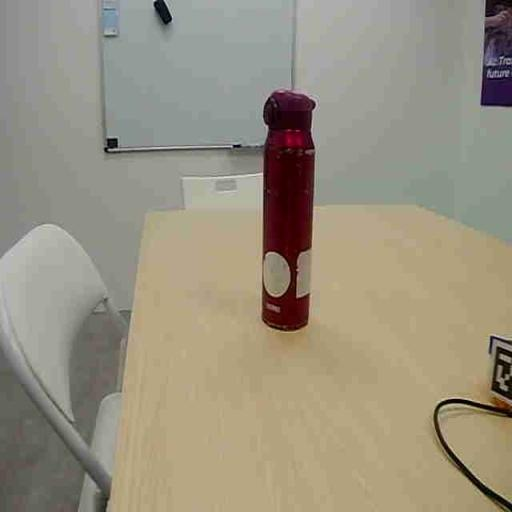bottle: (263, 90, 315, 330)
